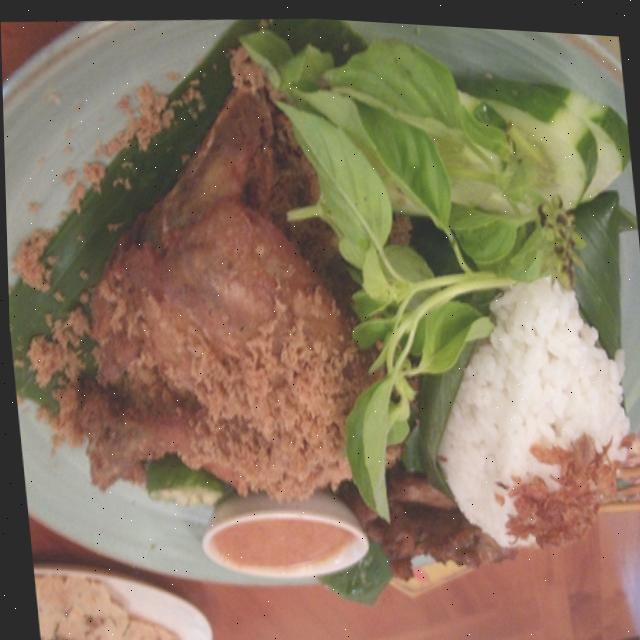米饭主食: (13, 12, 640, 640)
